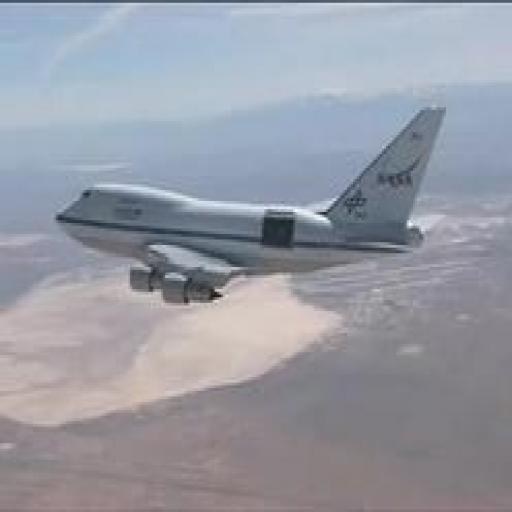aircraft: (52, 105, 447, 304)
